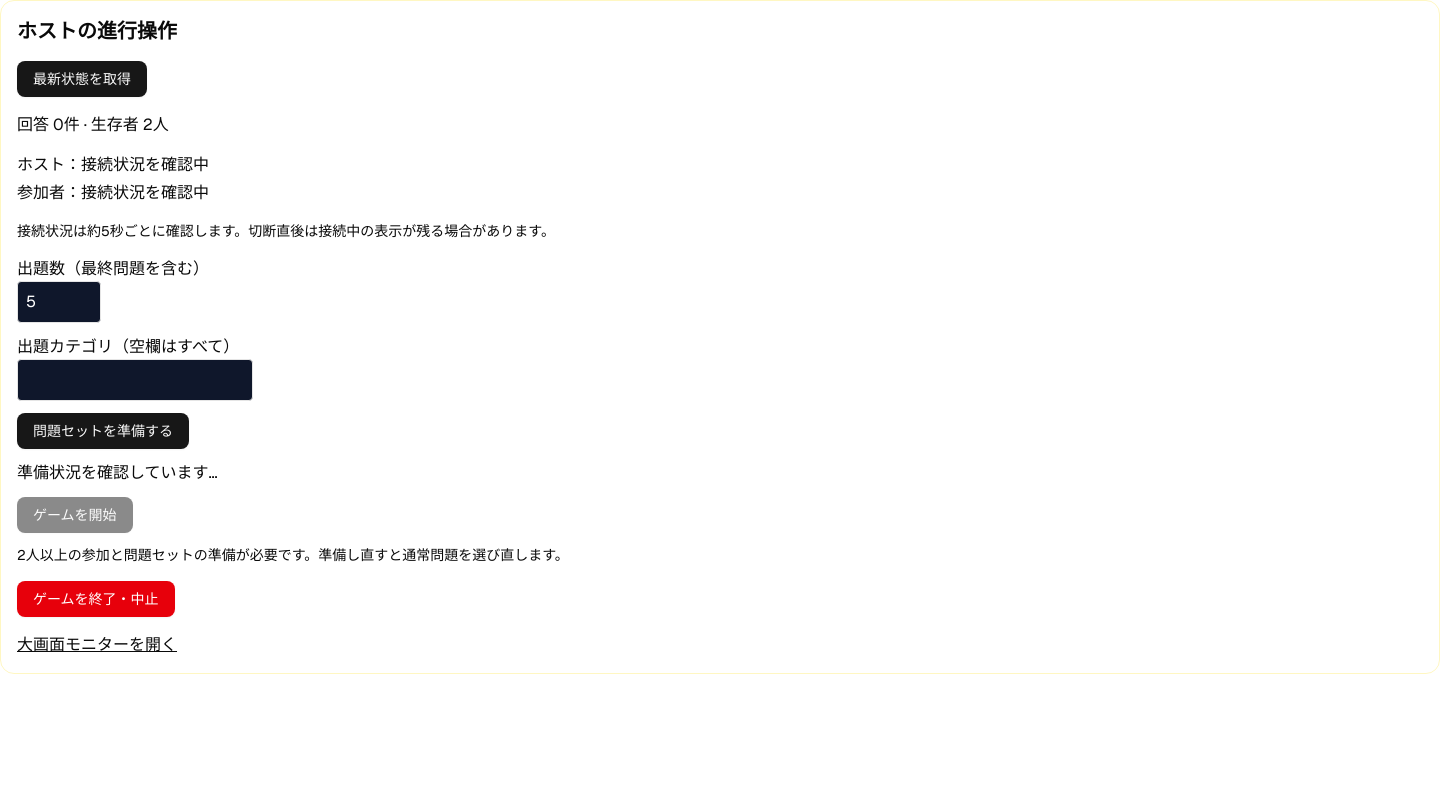
it: keeps preparation inputs and success notice without reconnecting
The width and height of the screenshot is (1440, 810).
Replace the text in the number field labelled "出題数（最終問題を含む）" with "2" at (59, 302), box [17, 281, 101, 323]
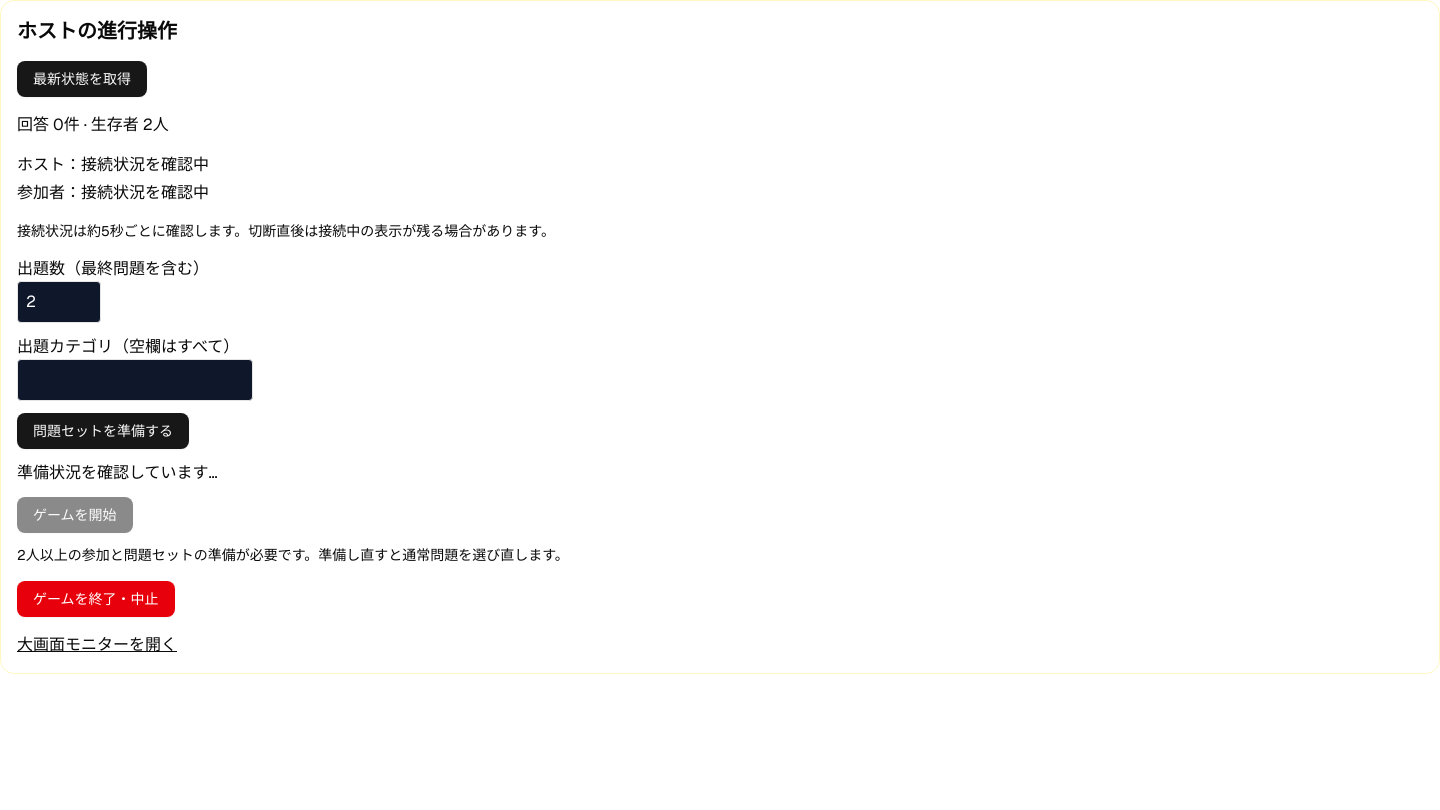
Type "練習" into the field labelled "出題カテゴリ（空欄はすべて）" at (135, 380), box [17, 359, 253, 401]
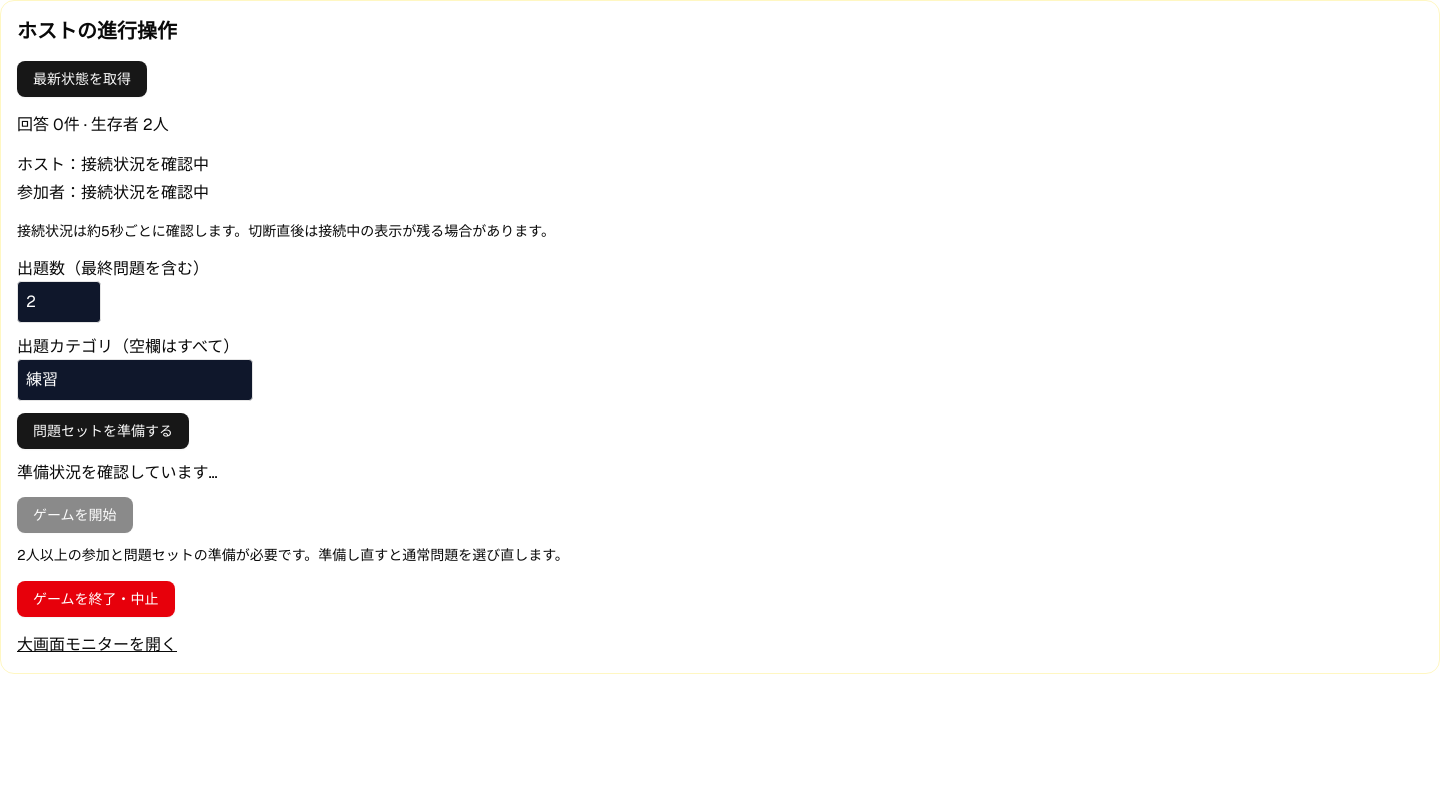
Click the button "問題セットを準備する" at (103, 431), box [17, 413, 189, 449]
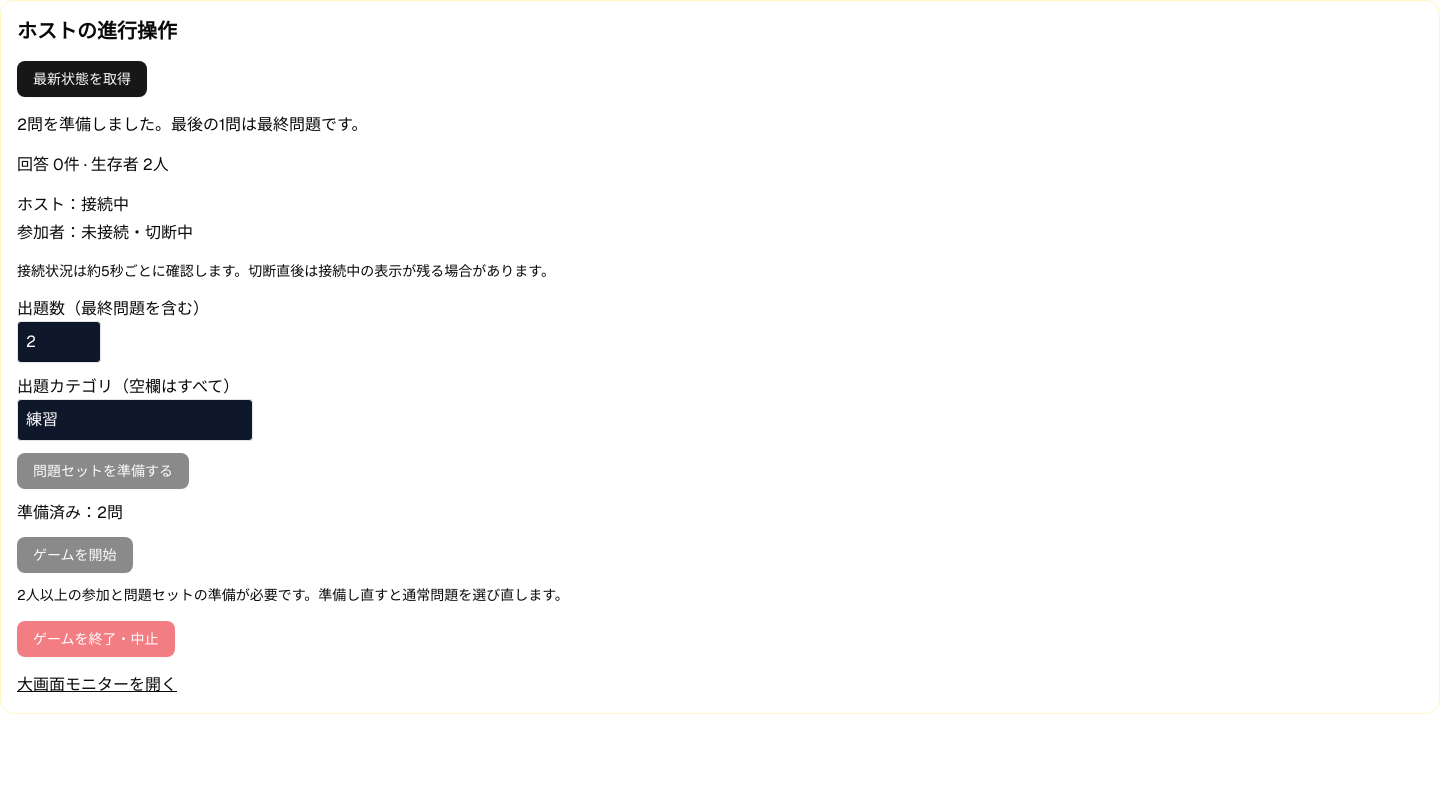
Expected: the message shows "2問を準備しました", [17, 114, 368, 135]
